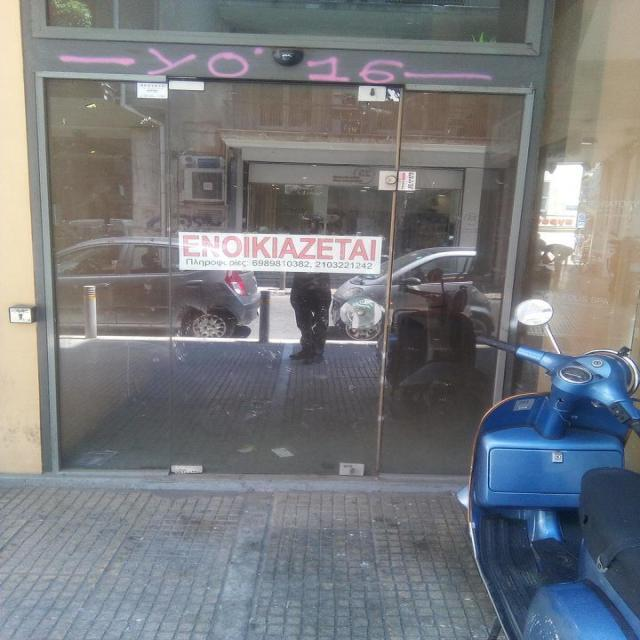nonspitting: (61, 46, 492, 85)
spitting: (182, 234, 379, 270)
